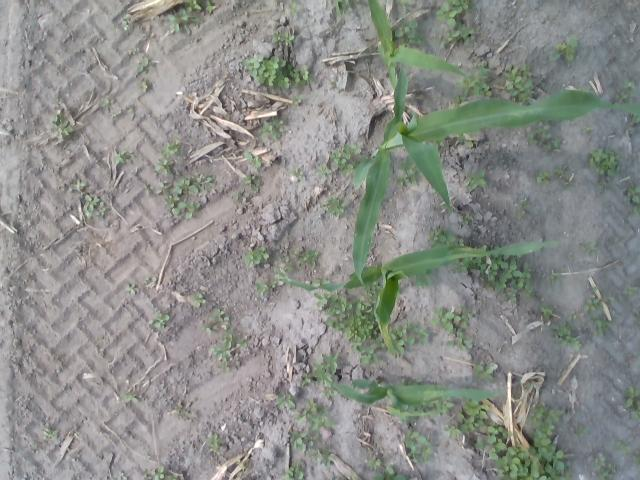Maize: (353, 66, 640, 286), (279, 241, 564, 361), (363, 0, 466, 88), (319, 372, 507, 417)
Weeds: (494, 446, 570, 480), (480, 256, 530, 288), (243, 56, 290, 88), (294, 408, 338, 432), (504, 66, 532, 103), (404, 430, 432, 463), (170, 8, 203, 36), (344, 314, 378, 341), (174, 174, 216, 194), (392, 324, 429, 346), (590, 149, 620, 176), (308, 352, 339, 378), (457, 73, 492, 96), (460, 397, 490, 420), (527, 412, 555, 436), (446, 328, 474, 351), (475, 440, 508, 458), (431, 308, 455, 332), (260, 118, 285, 140), (243, 246, 269, 267), (328, 294, 354, 314), (527, 125, 551, 146), (393, 18, 418, 38), (437, 3, 456, 26), (374, 467, 407, 480), (276, 389, 296, 410), (291, 66, 312, 86), (430, 230, 456, 246), (457, 414, 481, 430), (297, 249, 318, 267), (594, 316, 612, 337), (148, 312, 170, 329), (467, 170, 487, 188), (474, 364, 494, 382), (322, 317, 345, 332), (284, 463, 304, 480), (531, 430, 552, 446), (359, 349, 378, 366), (354, 298, 374, 314), (414, 272, 434, 288), (142, 466, 164, 480), (319, 380, 338, 396), (335, 0, 354, 16), (206, 433, 220, 454), (54, 120, 72, 136), (244, 151, 262, 167), (627, 386, 640, 408), (154, 158, 173, 173), (398, 156, 413, 174), (628, 182, 640, 204), (462, 257, 486, 268), (212, 348, 232, 361), (328, 198, 344, 214), (458, 24, 474, 40), (314, 291, 330, 307), (291, 430, 306, 447), (545, 409, 563, 423), (444, 426, 462, 439), (307, 397, 320, 415), (163, 142, 177, 158), (437, 401, 454, 414), (188, 200, 200, 218), (452, 0, 470, 12), (136, 57, 150, 72), (319, 448, 332, 464), (189, 293, 205, 306), (554, 324, 570, 337), (583, 299, 600, 311), (540, 304, 552, 321), (344, 143, 362, 154), (488, 422, 504, 434), (164, 196, 180, 208), (87, 196, 99, 212), (536, 402, 548, 418), (367, 454, 380, 468), (172, 202, 186, 215), (306, 433, 320, 446), (537, 170, 551, 183), (455, 314, 470, 326), (124, 283, 140, 294), (256, 282, 267, 298), (318, 162, 331, 175), (156, 182, 169, 195), (458, 136, 472, 148), (446, 30, 460, 42), (564, 46, 576, 60), (366, 282, 378, 296), (202, 322, 214, 336), (272, 30, 286, 42), (616, 440, 630, 452), (583, 243, 598, 254), (220, 333, 232, 346), (74, 178, 86, 191), (571, 336, 582, 350), (291, 168, 310, 176), (566, 34, 578, 46), (274, 264, 292, 272), (351, 341, 364, 352), (616, 89, 626, 103), (302, 372, 312, 386), (43, 429, 57, 439), (188, 0, 202, 10), (95, 202, 105, 216), (334, 158, 346, 169), (342, 164, 353, 176), (398, 174, 410, 185), (548, 50, 560, 61), (624, 78, 636, 89), (212, 309, 224, 320), (104, 98, 115, 110), (551, 136, 562, 148), (548, 273, 560, 284), (284, 34, 295, 46), (235, 338, 248, 348), (462, 213, 472, 226), (206, 1, 216, 14), (244, 172, 255, 183), (233, 189, 245, 199), (554, 166, 566, 176), (623, 286, 638, 294), (120, 14, 130, 26), (460, 306, 475, 314), (598, 468, 608, 480), (124, 394, 138, 402), (314, 278, 330, 285), (486, 433, 497, 443), (631, 114, 640, 126), (144, 184, 153, 196), (519, 200, 532, 208), (508, 288, 516, 301), (331, 151, 341, 161), (398, 0, 408, 10), (478, 65, 488, 75), (455, 93, 465, 103), (218, 362, 229, 371), (602, 294, 616, 301), (118, 150, 126, 162), (118, 471, 128, 480), (112, 108, 121, 118), (51, 116, 61, 125), (566, 311, 576, 320), (138, 81, 146, 92), (581, 125, 592, 133), (274, 274, 288, 280), (556, 42, 566, 50), (129, 47, 139, 55), (453, 260, 463, 268), (562, 334, 570, 344), (630, 409, 638, 419), (451, 268, 466, 273), (627, 88, 636, 96), (578, 424, 584, 435), (405, 38, 413, 46), (294, 98, 302, 106), (127, 150, 135, 158), (526, 288, 534, 296), (544, 144, 551, 153), (440, 38, 446, 48), (336, 314, 346, 320), (222, 325, 232, 331), (290, 3, 296, 13), (606, 463, 612, 473), (599, 179, 607, 186), (518, 212, 526, 219), (413, 36, 422, 42), (174, 406, 183, 412), (561, 180, 570, 186), (634, 205, 639, 215), (144, 453, 151, 460), (290, 249, 297, 256), (278, 256, 285, 263), (173, 139, 180, 146), (559, 320, 566, 327), (343, 152, 351, 158), (300, 444, 306, 452), (270, 281, 278, 287), (165, 475, 177, 479), (568, 253, 574, 261), (84, 194, 92, 200), (636, 400, 640, 412), (596, 460, 604, 466), (593, 286, 600, 292), (456, 239, 464, 244), (635, 456, 640, 464), (144, 277, 150, 283), (128, 106, 134, 112), (526, 344, 532, 350), (350, 475, 356, 480), (614, 238, 620, 243), (552, 325, 558, 330), (223, 317, 229, 321), (590, 294, 596, 298)
